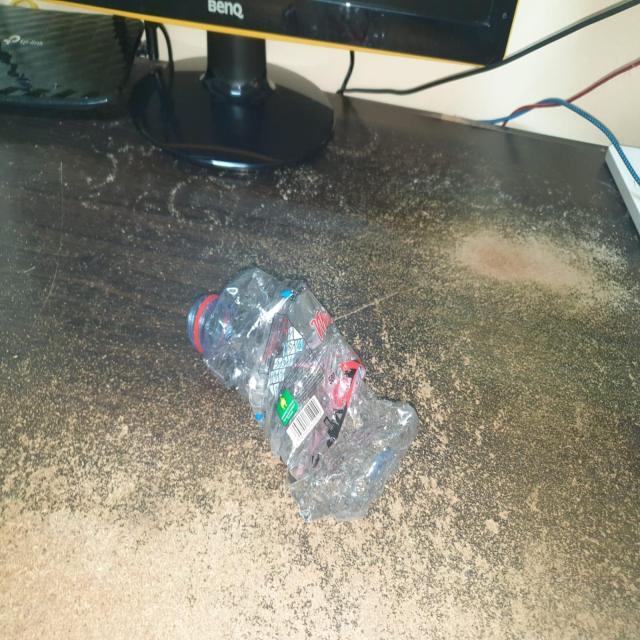bottle: (174, 266, 422, 520)
